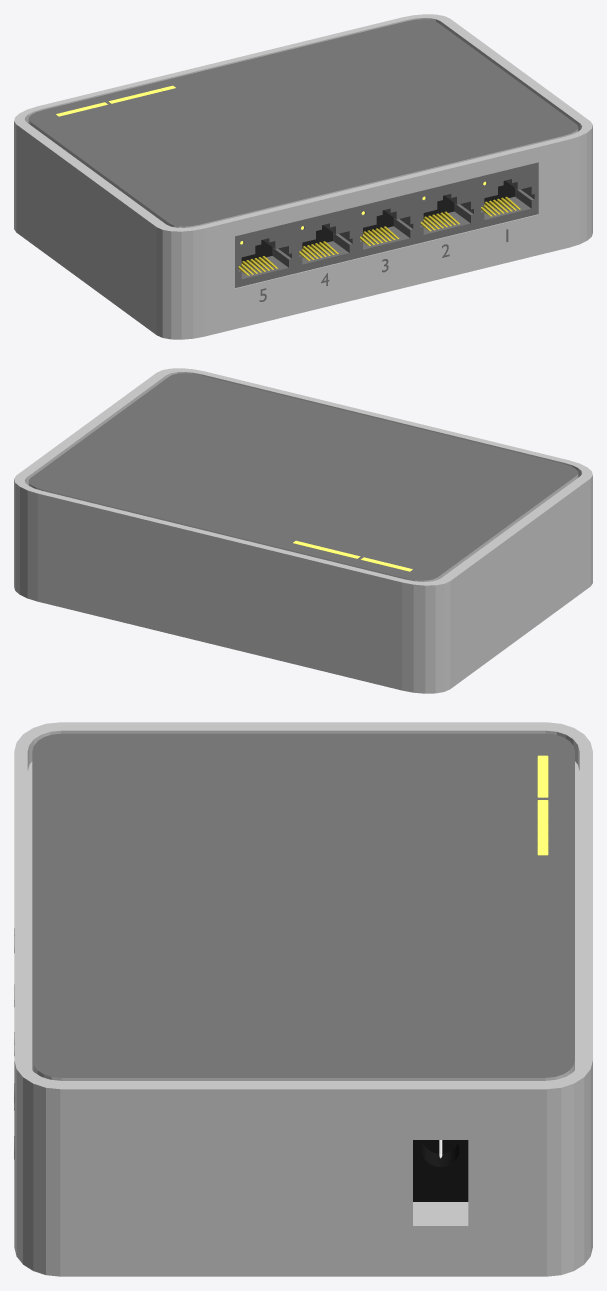
File: dev-switch.glb
3 views of the same model, one above another, from view 1: azimuth 30°, elevation 25°; view 2: azimuth 150°, elevation 25°; view 3: azimuth 270°, elevation 25° (orthographic). The views are drawn at different scales.
Visible parts, largest first — view 1: body; view 2: body; view 3: body.
Boxes of the visible parts, x1,y1,x2,y2 form: body: [14, 14, 592, 339]; body: [14, 368, 592, 693]; body: [14, 722, 592, 1276].
Bounding box in the file's own units: 0.1 × 0.0239 × 0.0667.
